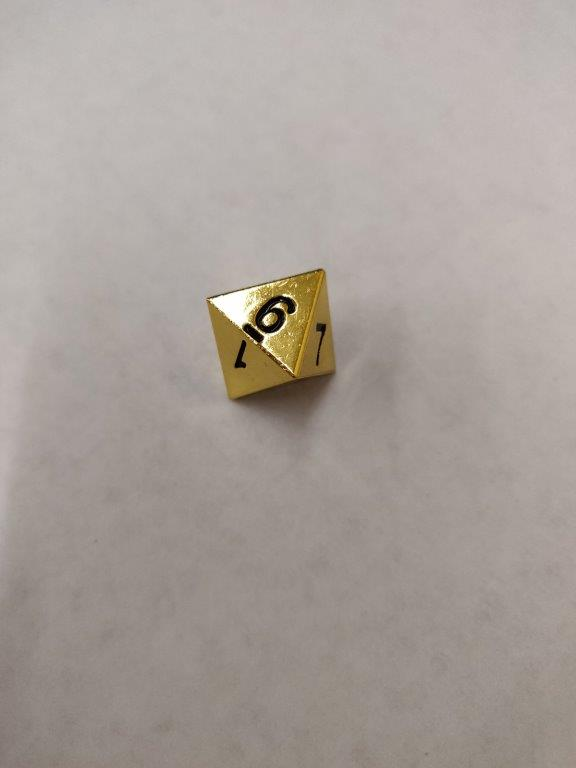d8-6: (205, 266, 340, 398)
